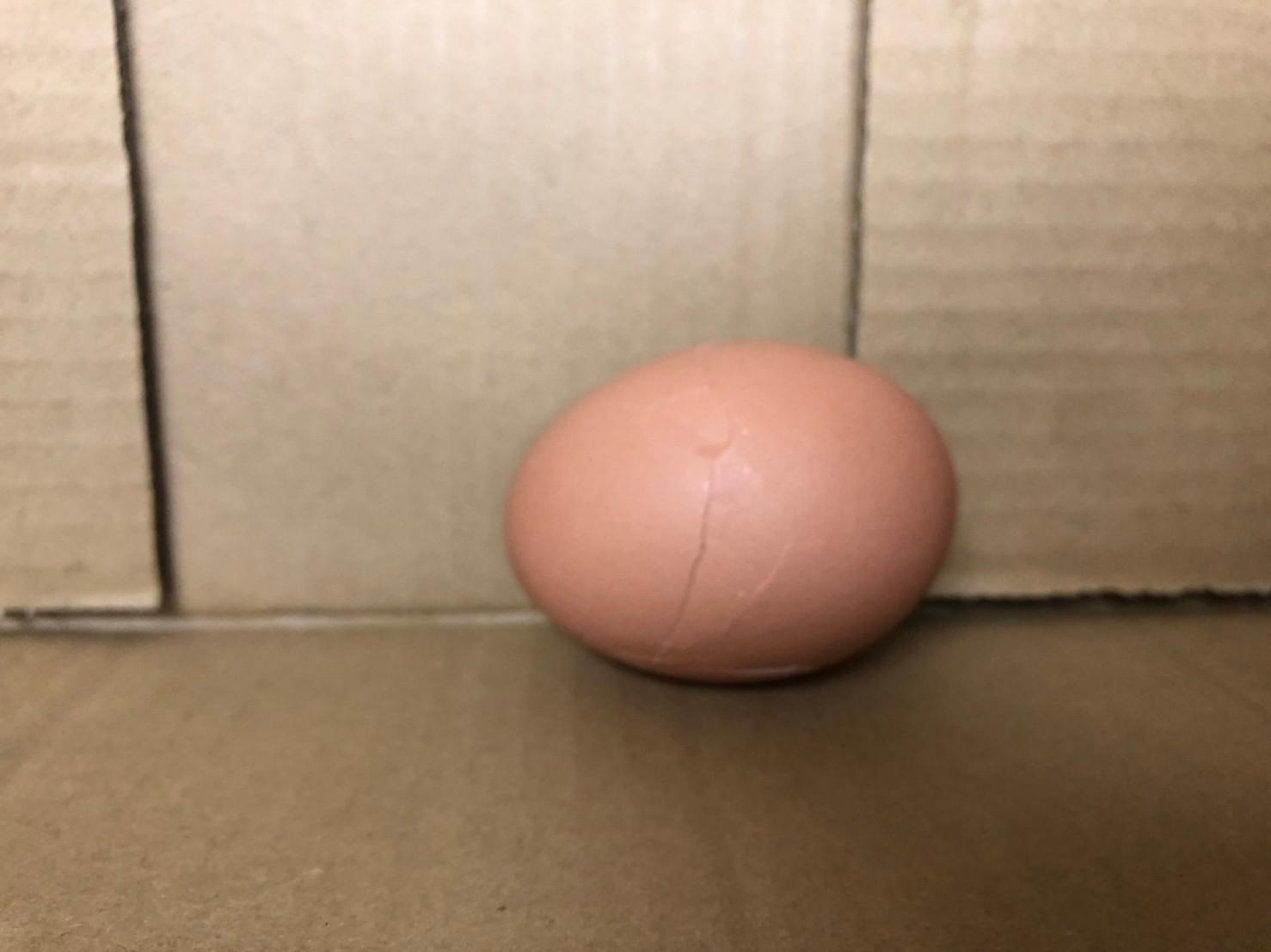egg: (492, 333, 960, 693)
